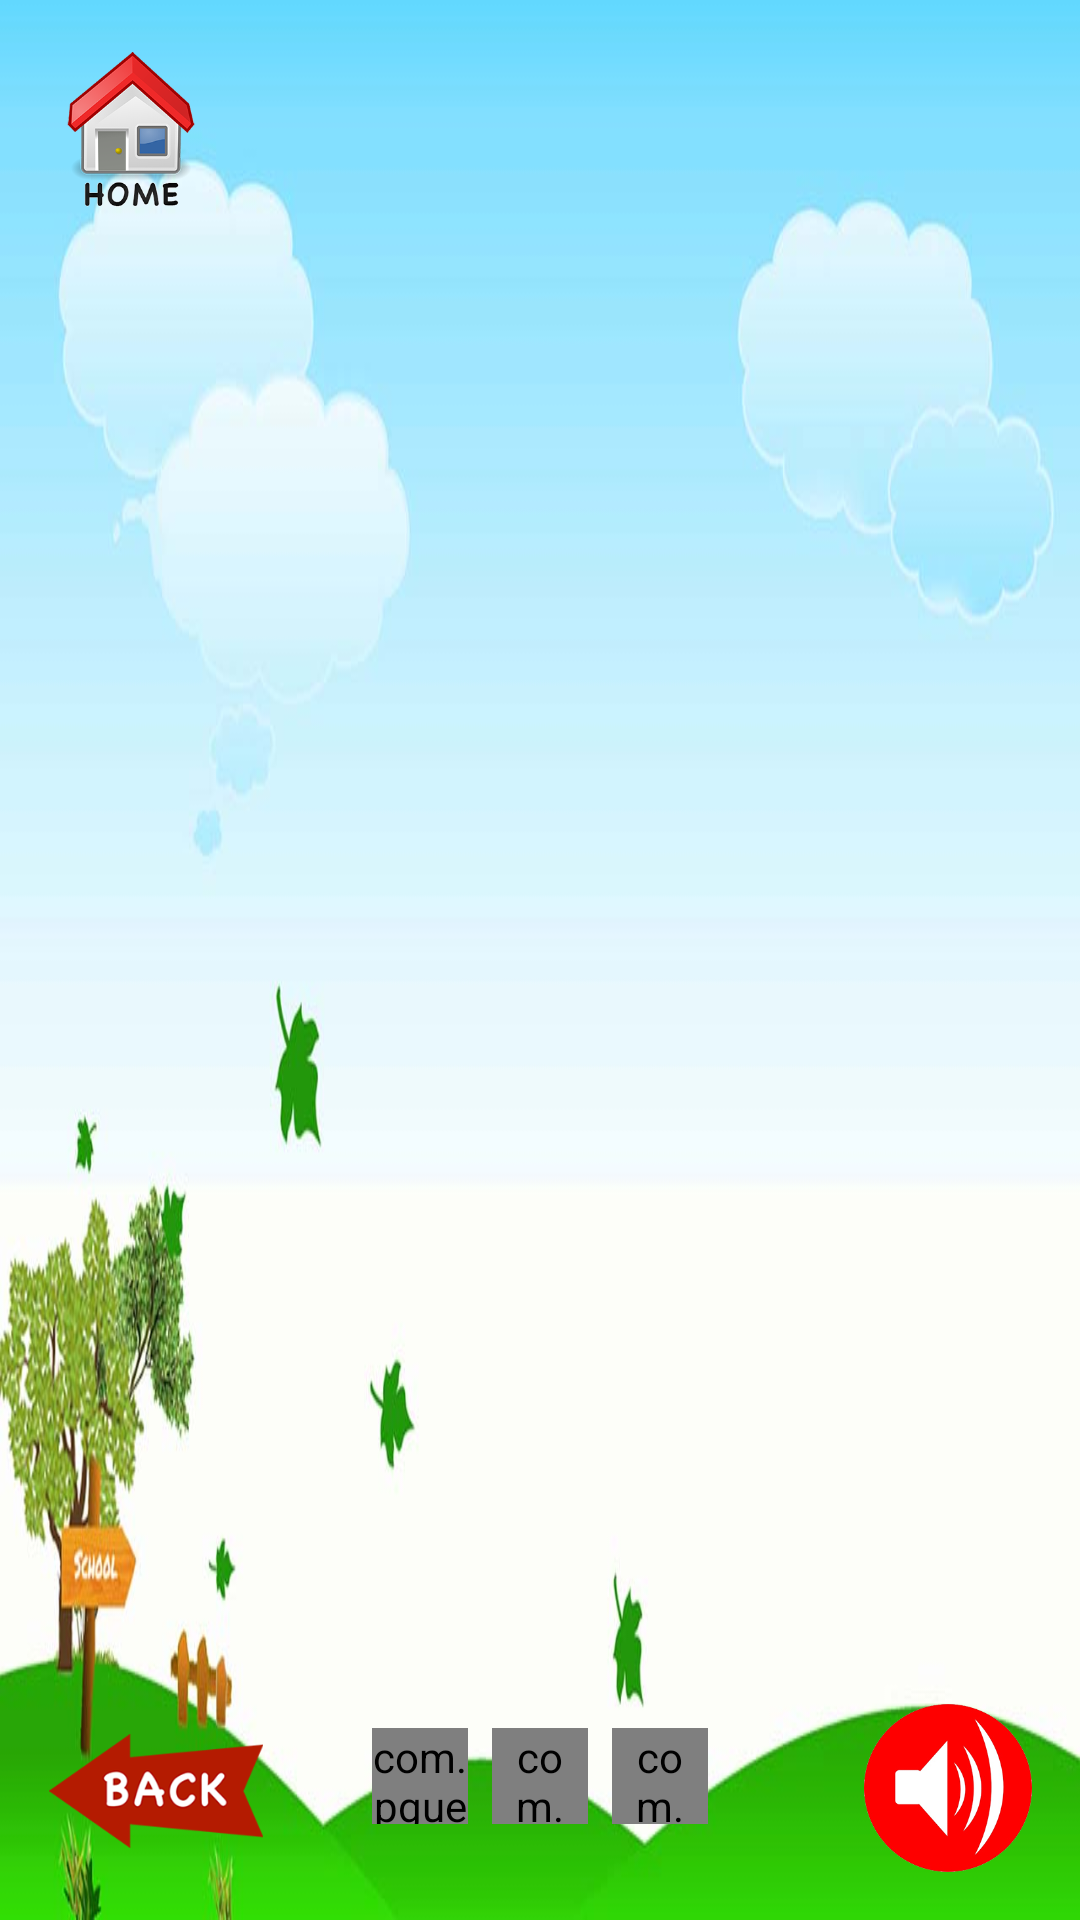

Icon click points for this 1080px×1920px phone screenshot, format point (x, y):
speak: point (924, 1764)
